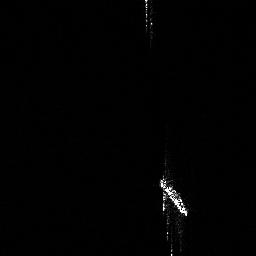ship: (156, 170, 192, 220)
